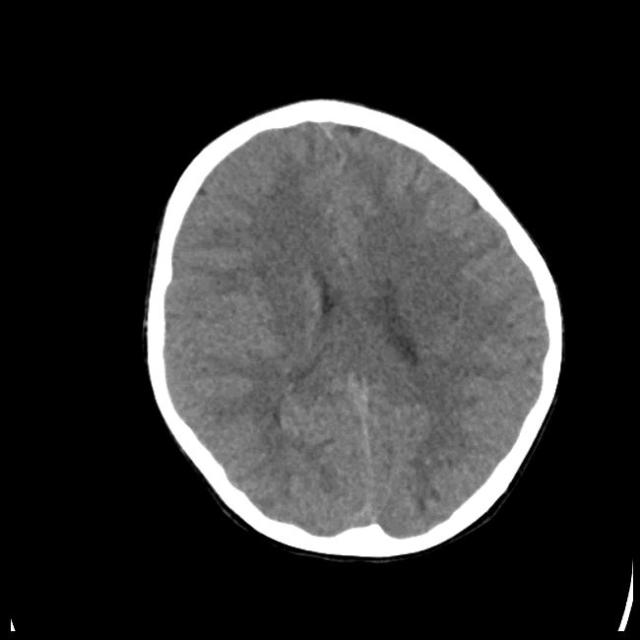lesion: (142, 98, 566, 560)
